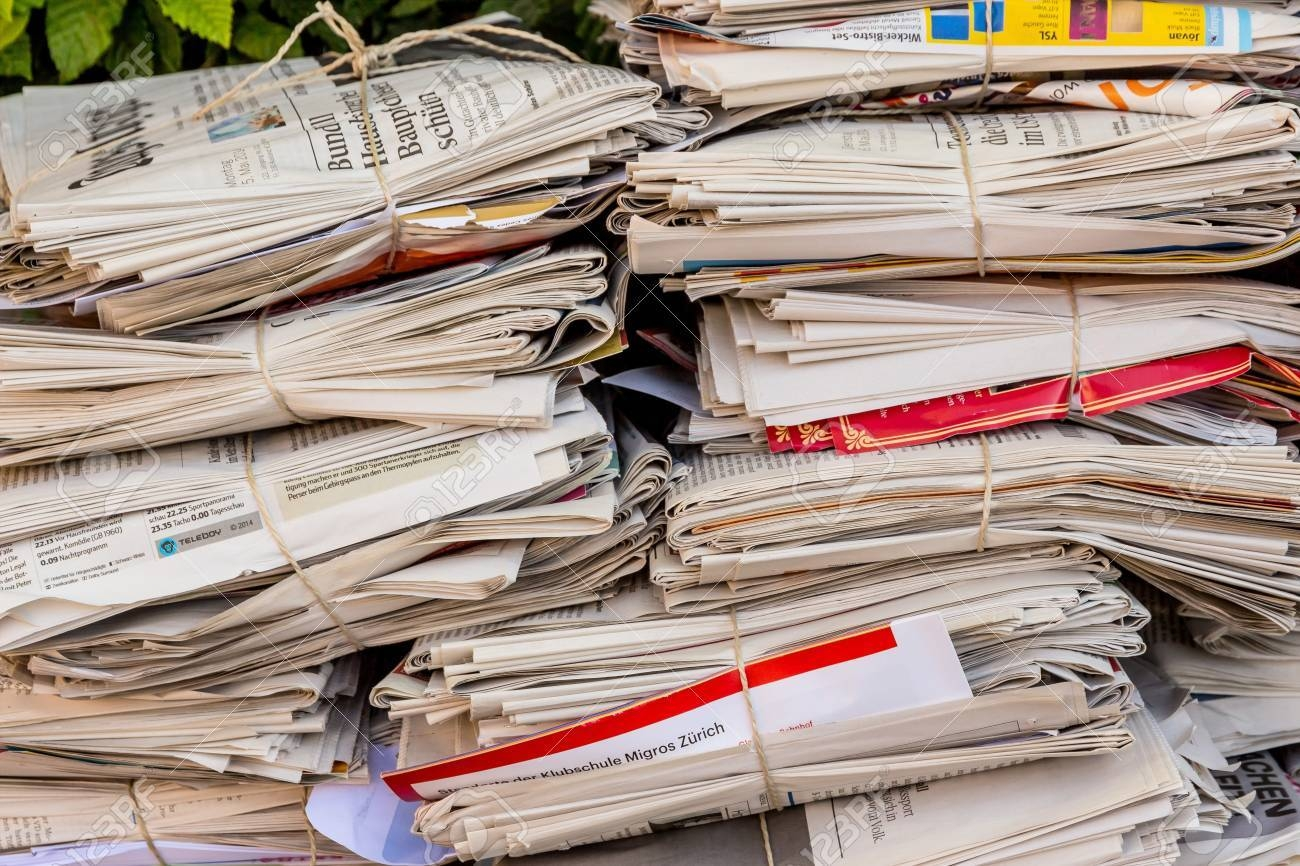paper: (365, 520, 1164, 866), (1, 48, 708, 337), (641, 376, 1300, 652), (1, 430, 666, 644), (589, 116, 1300, 296), (1, 254, 628, 440), (596, 1, 1300, 136), (1, 619, 386, 802)
